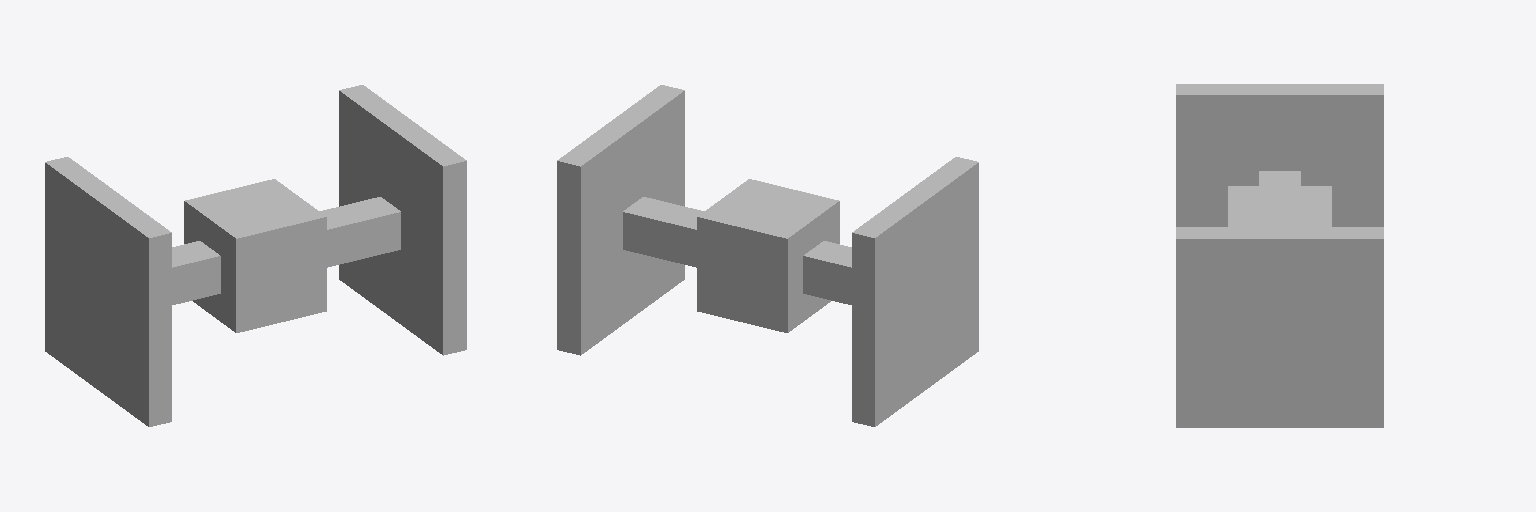
File: tie_fighter_v3.obj
The picture shows the model from 3 angles: view 1: azimuth 30°, elevation 25°; view 2: azimuth 150°, elevation 25°; view 3: azimuth 270°, elevation 25°; orthographic projection.
Bounding box in the file's own units: 7.04 × 4 × 4.